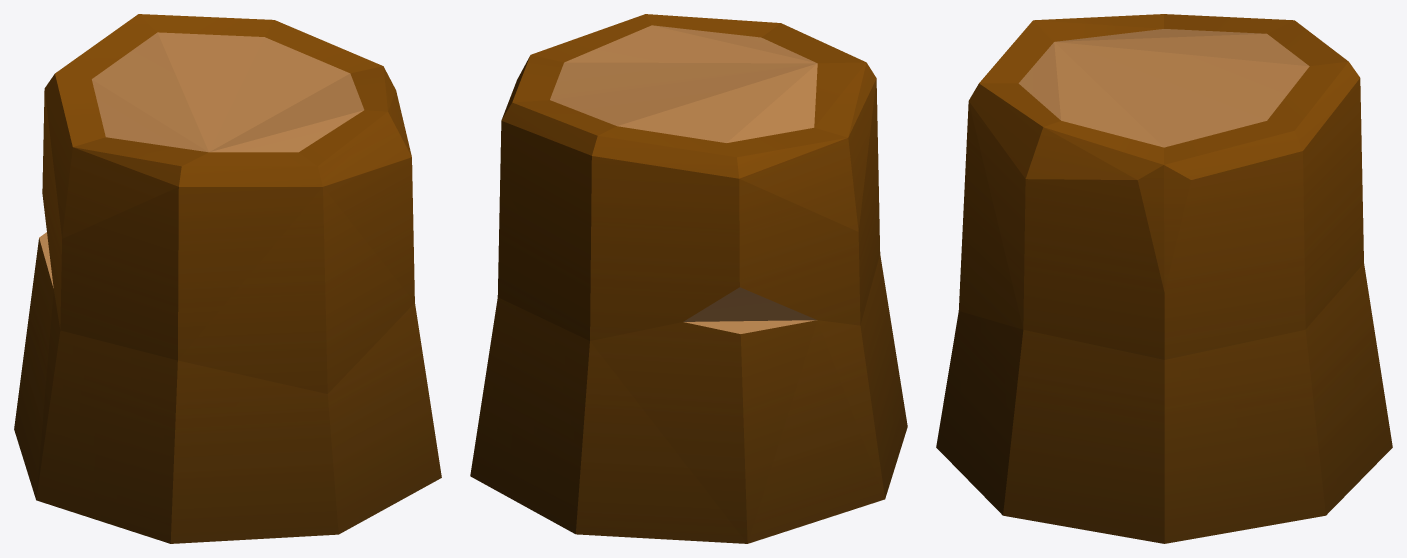
File: TreeTrunk_1_1_A.glb
3 renders of one model, left to right at view 1: azimuth 30°, elevation 25°; view 2: azimuth 150°, elevation 25°; view 3: azimuth 270°, elevation 25°, orthographic. The views are drawn at different scales.
Visible parts, largest first — view 1: TreeTrunk_1_1_A; view 2: TreeTrunk_1_1_A; view 3: TreeTrunk_1_1_A.
Part boxes in pixels (box(x1,y1,x2,y2)): TreeTrunk_1_1_A: box(14, 14, 441, 543); TreeTrunk_1_1_A: box(470, 14, 907, 543); TreeTrunk_1_1_A: box(936, 14, 1392, 543).
Size of the model in its own units: 0.8299 by 0.7736 by 0.8299.
1 material, 1 textured.
